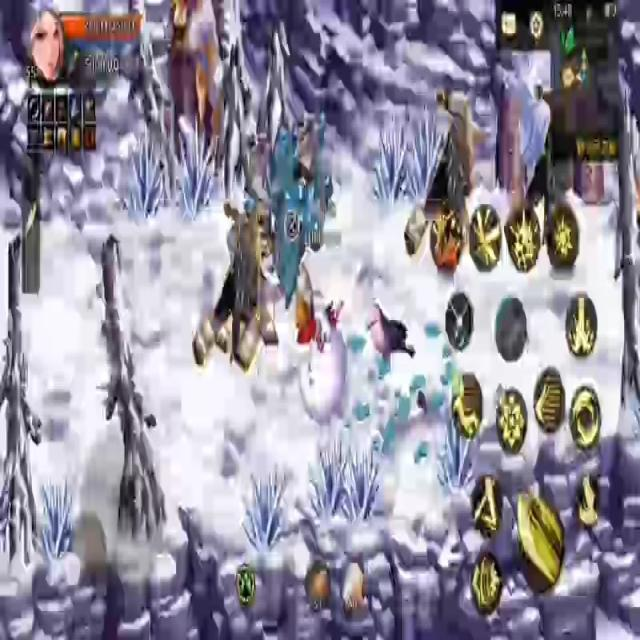player: (293, 284, 350, 455)
